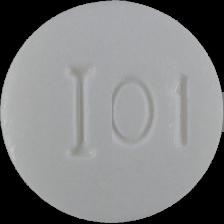69097-857: (0, 0, 224, 224)
